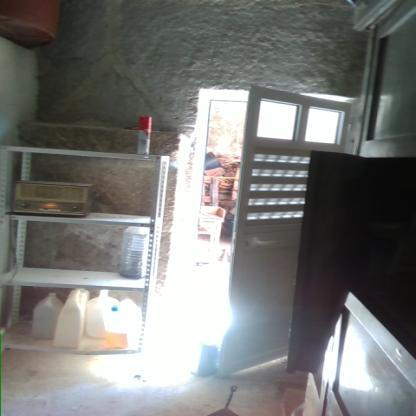semi: (167, 72, 370, 378)
